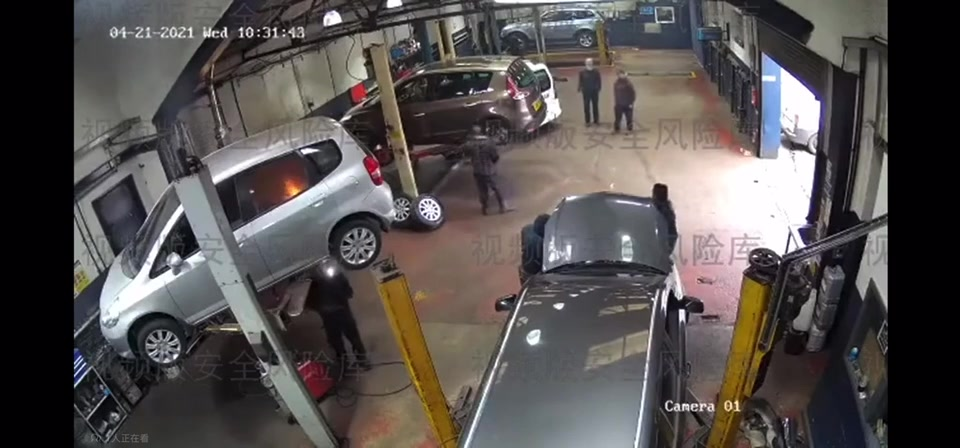fire: (280, 169, 306, 200)
